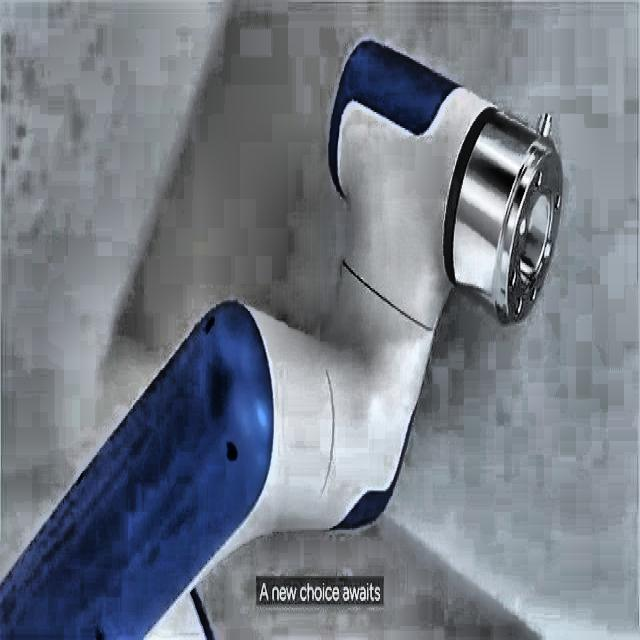robot: (1, 36, 563, 636)
